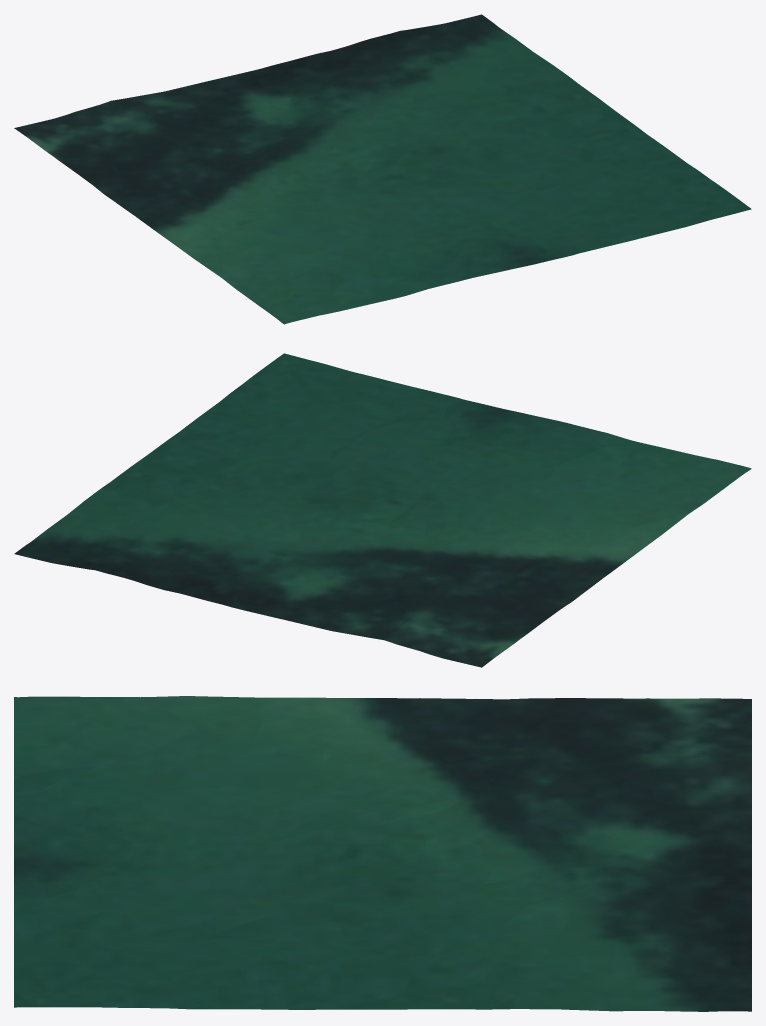
3 renders of one model, top to bottom at view 1: azimuth 30°, elevation 25°; view 2: azimuth 150°, elevation 25°; view 3: azimuth 270°, elevation 25°, orthographic. The views are drawn at different scales.
Size of the model in its own units: 52.22 by 0.6273 by 52.22.
2 materials, 2 textured.
